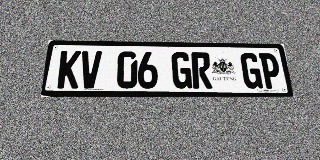0: (116, 51, 137, 89)
6: (138, 52, 158, 89)
G: (240, 53, 263, 89), (171, 52, 192, 89)
K: (57, 51, 81, 88)
P: (259, 53, 283, 89)
R: (191, 52, 213, 89)
V: (79, 51, 102, 89)
